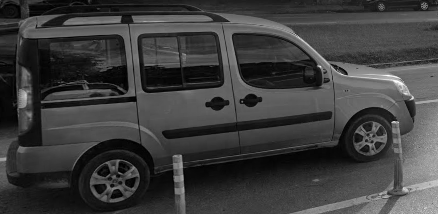car: (14, 16, 416, 207)
